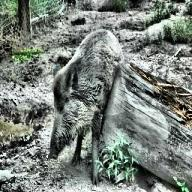boar: (47, 28, 122, 185)
